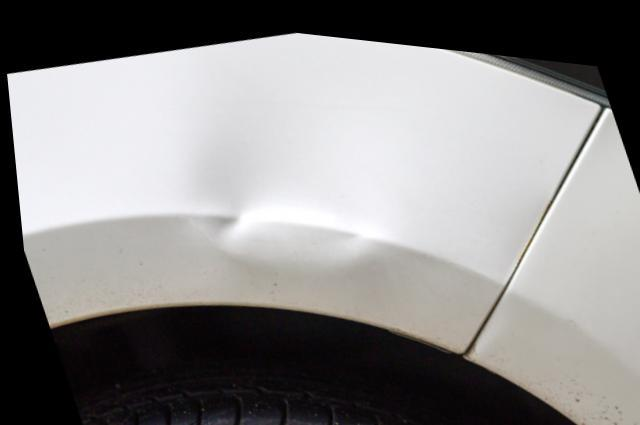dent: (181, 69, 387, 262)
